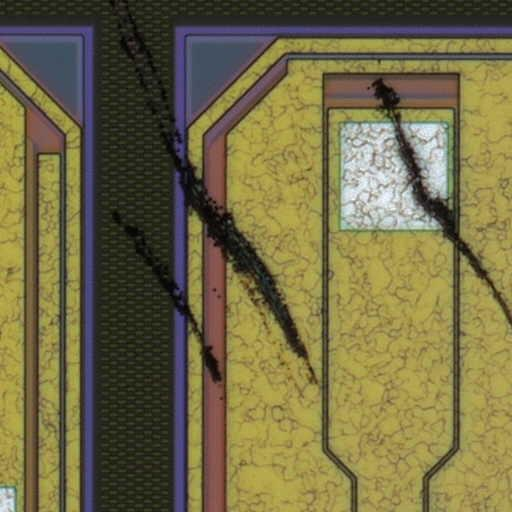SCRATCH: (95, 1, 512, 406)
